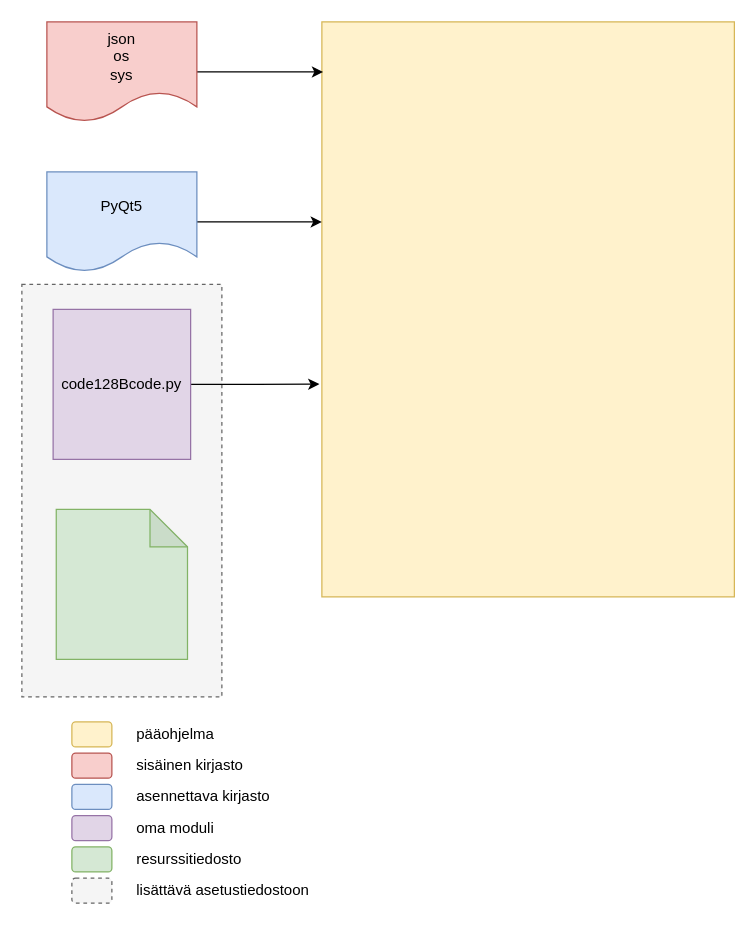
The diagram is 756 pixels wide and 931 high, and some of its shapes have lost their labels. The centre of each missing label's shape, as x and y in pixels:
"opiskelijatarra.py" goes at (527,309).
"placeholder.png placeholder2.jpg" goes at (121,583).
